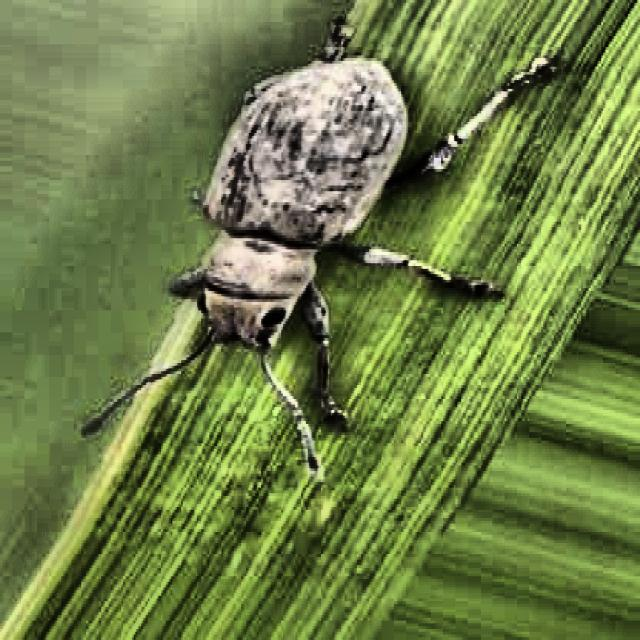Stink bug: (108, 0, 475, 483)
